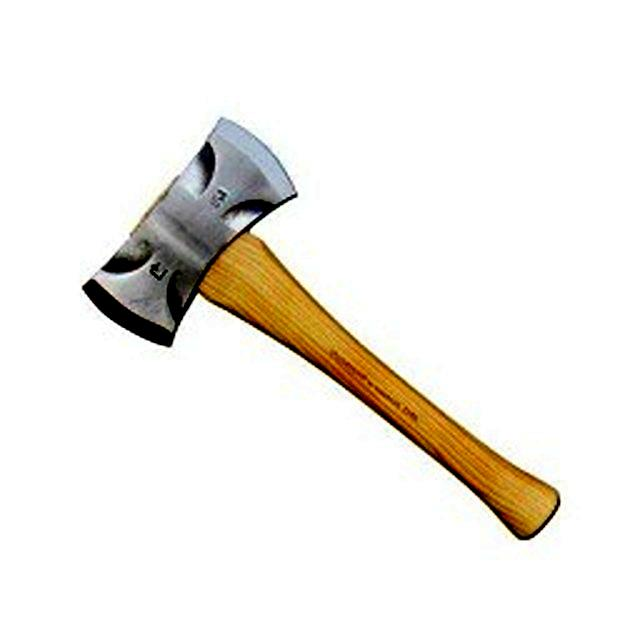ax: (82, 110, 564, 546)
